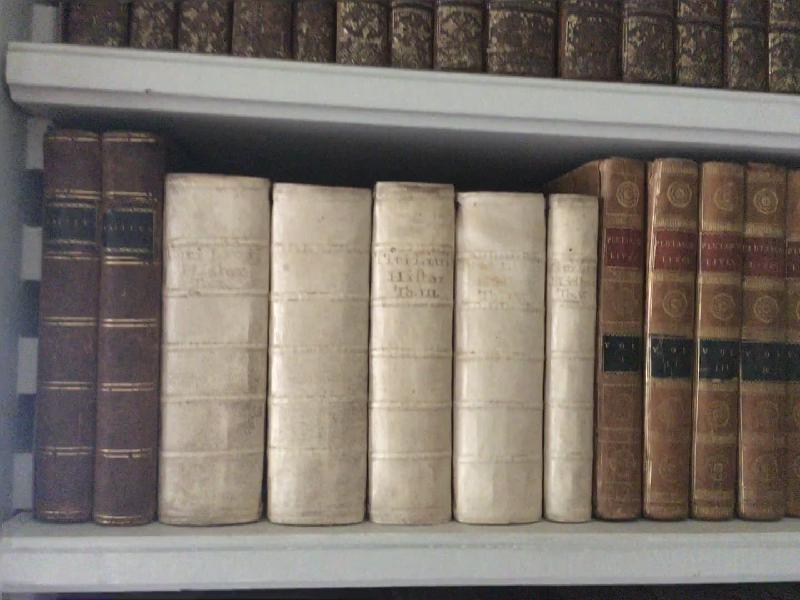Kk4-1_2: (35, 121, 163, 528)
Kk4-3_7: (164, 162, 596, 525)
Kk4-8_13: (598, 153, 800, 519)
